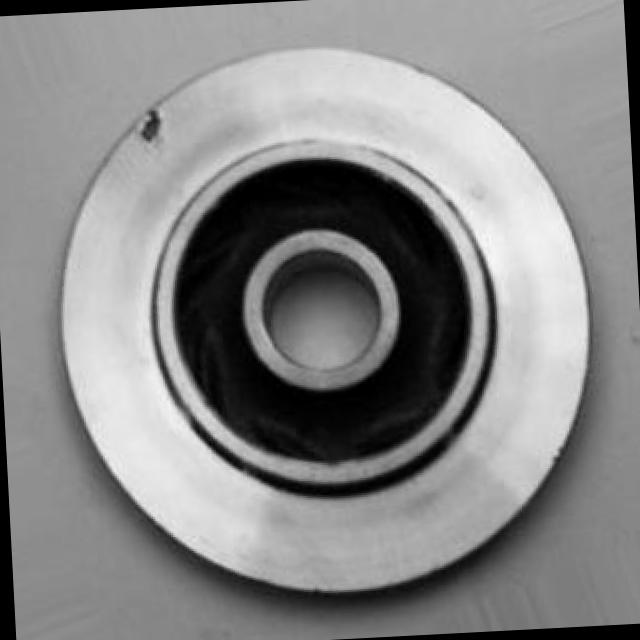Defect: (132, 106, 170, 146)
